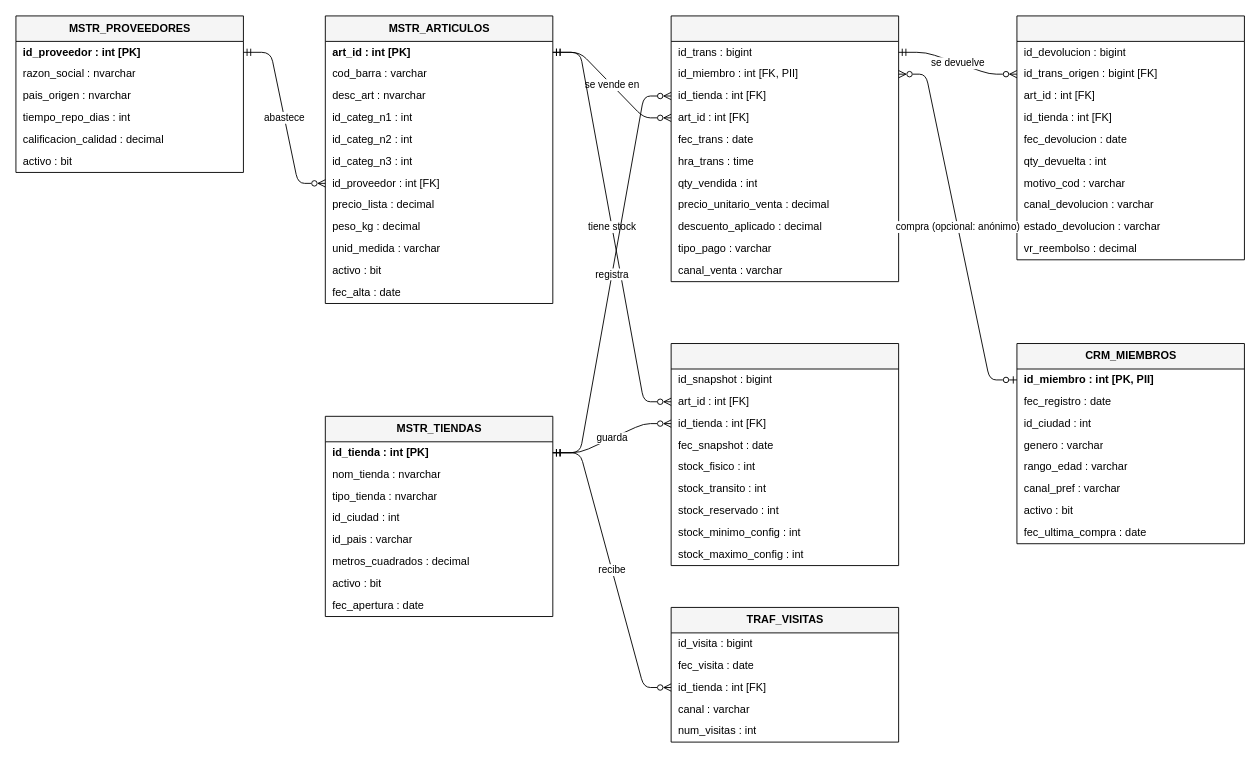
Some shapes in this 1260 by 758 pixel diagram are drawn without their labels. The shapes that lost their labels are listed below. From the top down, each one's box as (x1, y1, x2, y2) in pixels, then its label:
(670, 15, 899, 282): TRANS_VENTAS
(1016, 15, 1244, 260): POST_DEVOLUCIONES
(670, 343, 899, 566): INV_STOCK_DIARIO
